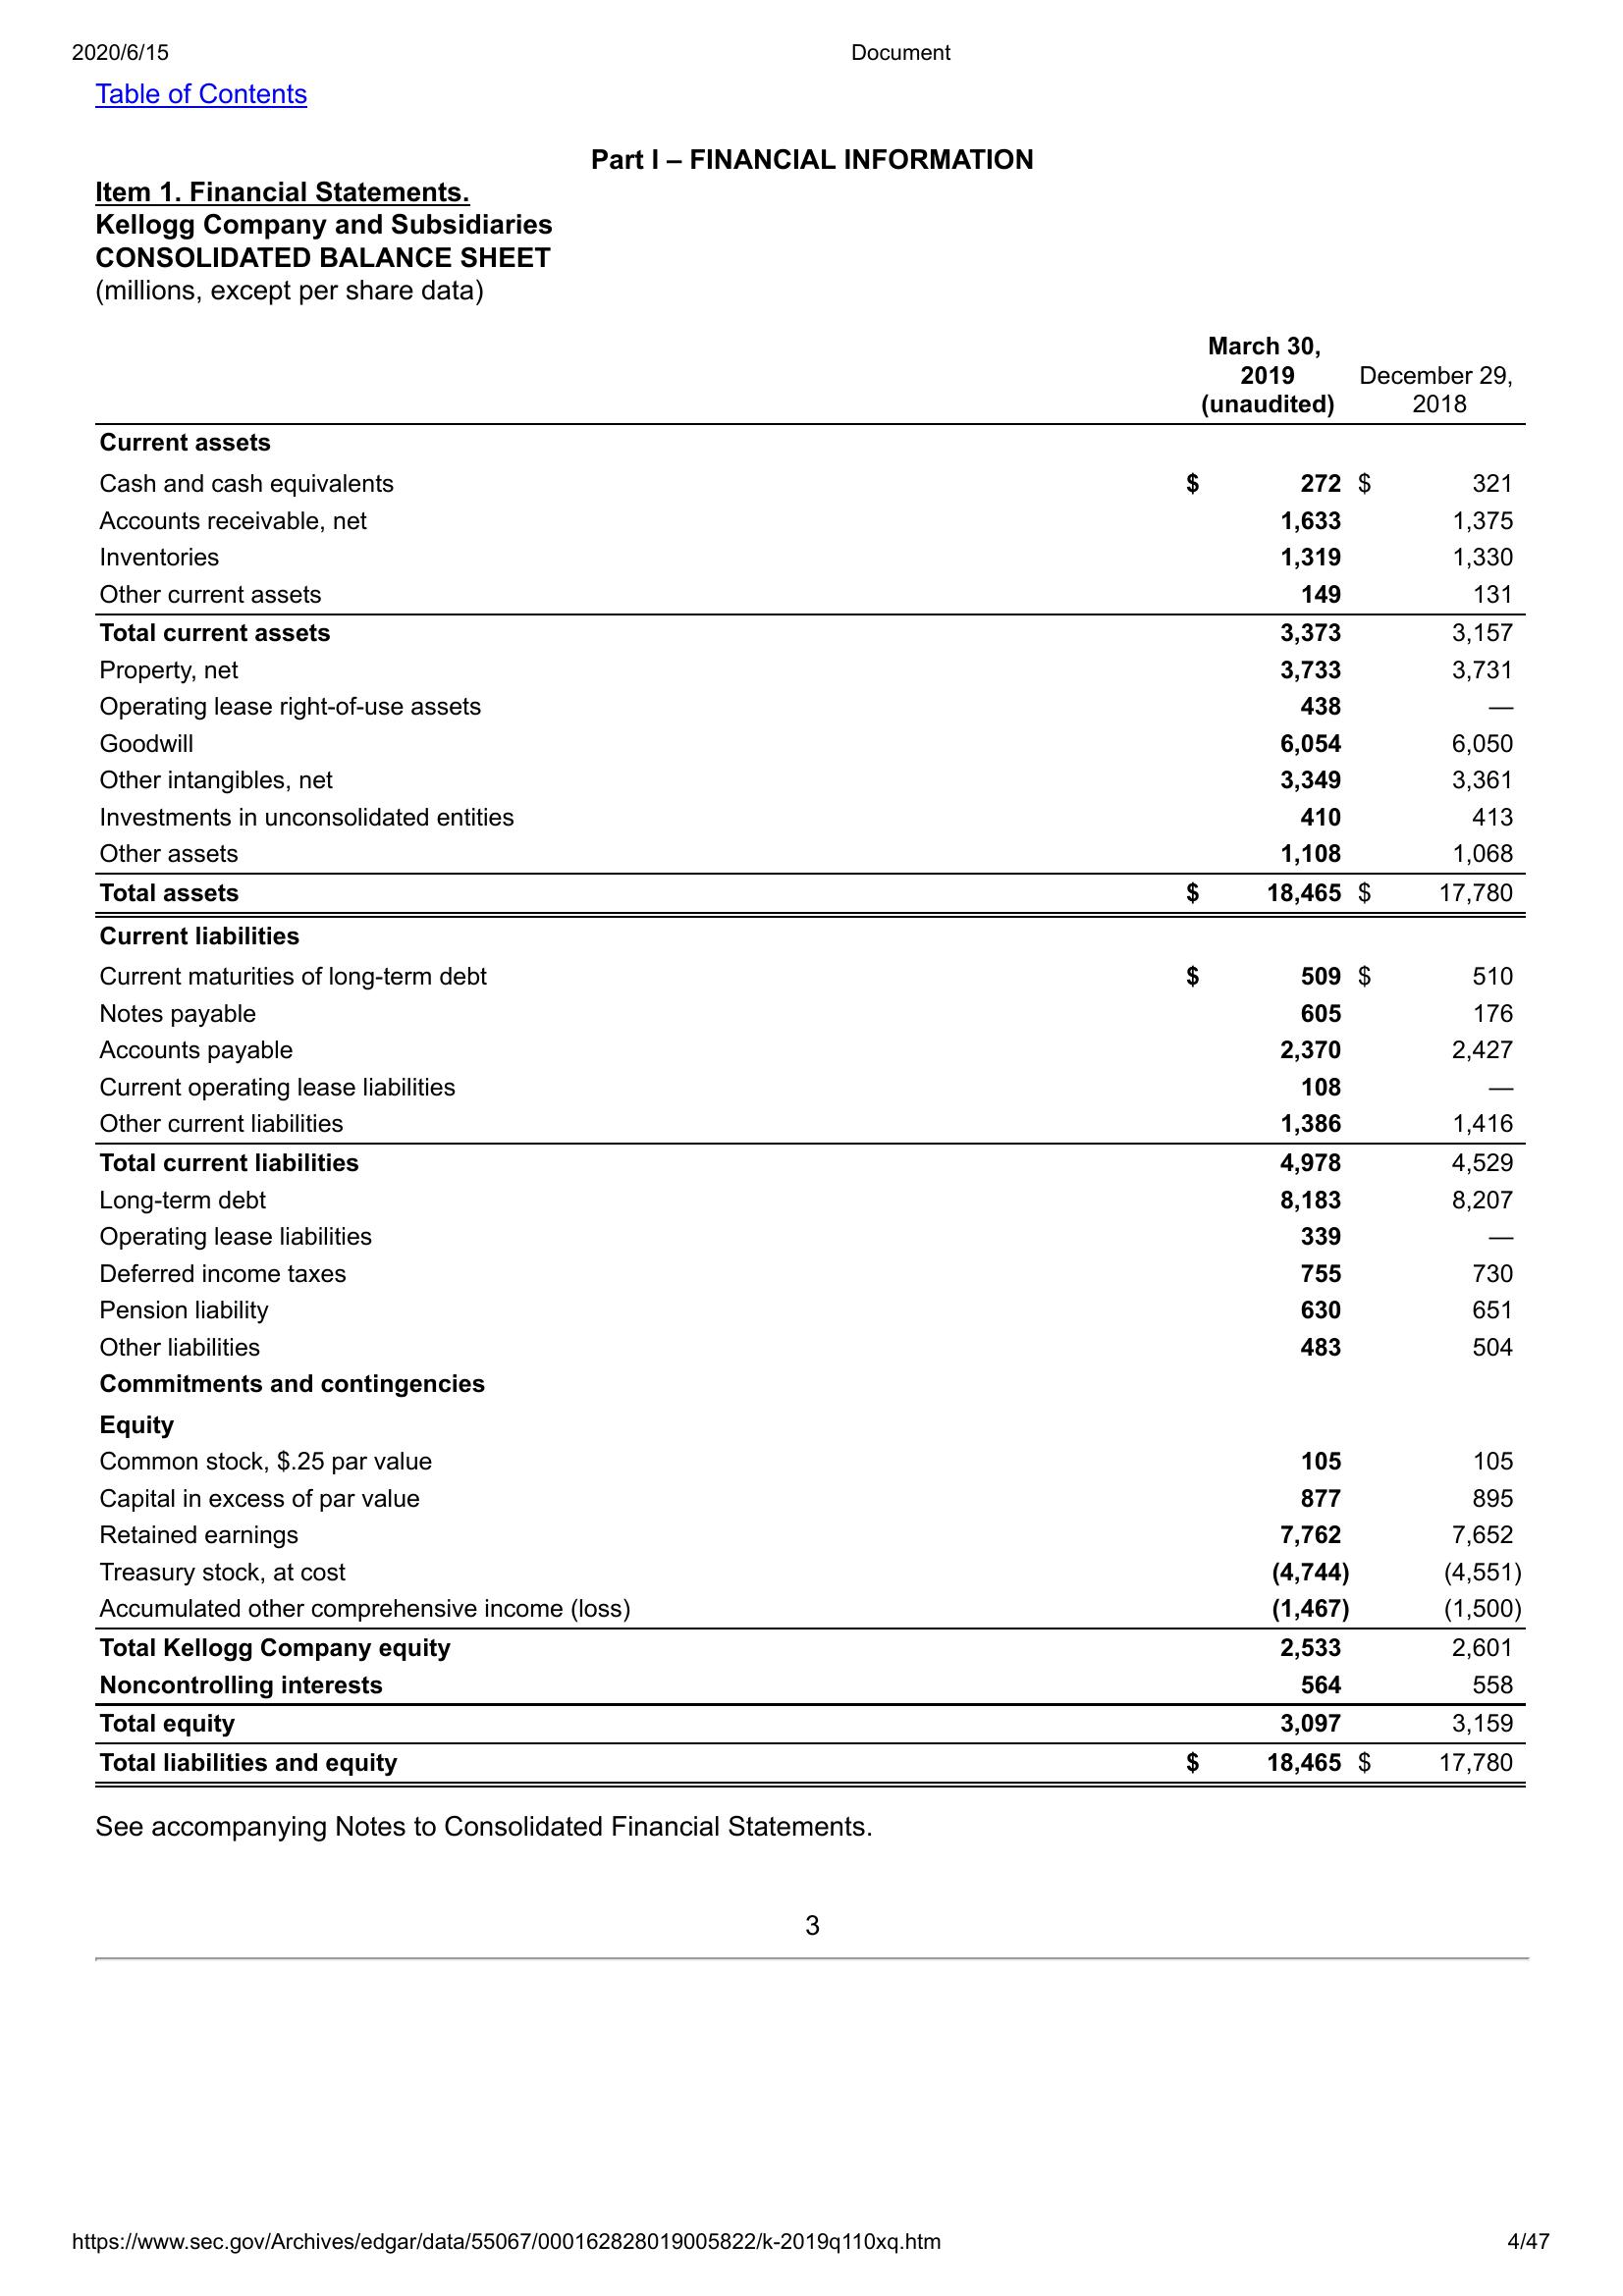table: (83, 321, 1535, 1796)
